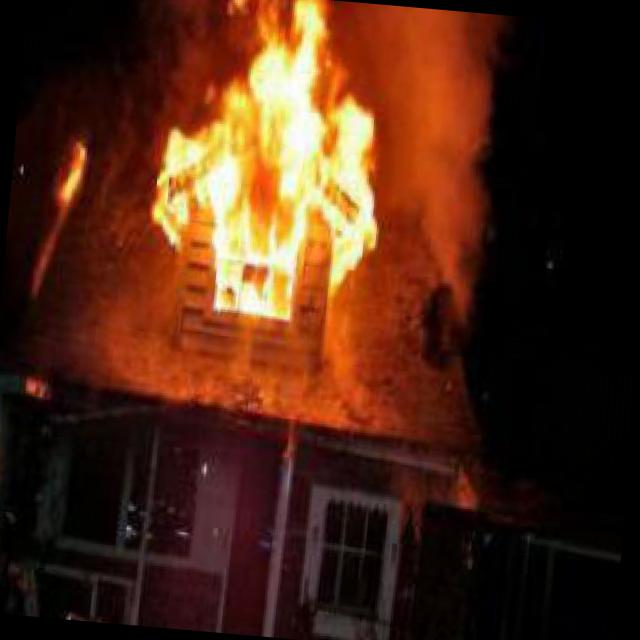fire: (148, 1, 390, 326), (49, 122, 96, 220)
smoke: (364, 11, 510, 317)
